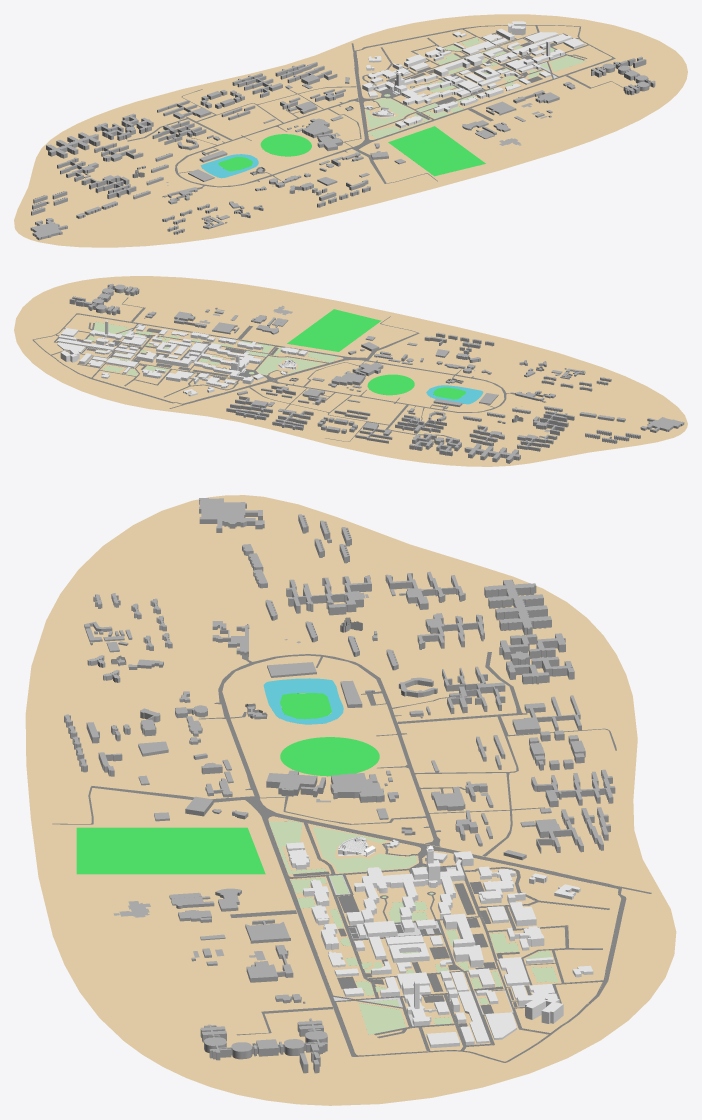
The picture shows the model from 3 angles, top to bottom: view 1: azimuth 30°, elevation 25°; view 2: azimuth 150°, elevation 25°; view 3: azimuth 270°, elevation 25°; orthographic projection. The views are drawn at different scales.
Visible parts, largest first — view 1: final map.001; view 2: final map.001; view 3: final map.001.
Boxes of the visible parts, left/top/right/bottom form: final map.001: left=14, top=14, right=687, bottom=247; final map.001: left=14, top=276, right=687, bottom=466; final map.001: left=25, top=495, right=676, bottom=1105.
Bounding box in the file's own units: 2584 × 72.71 × 1164.
